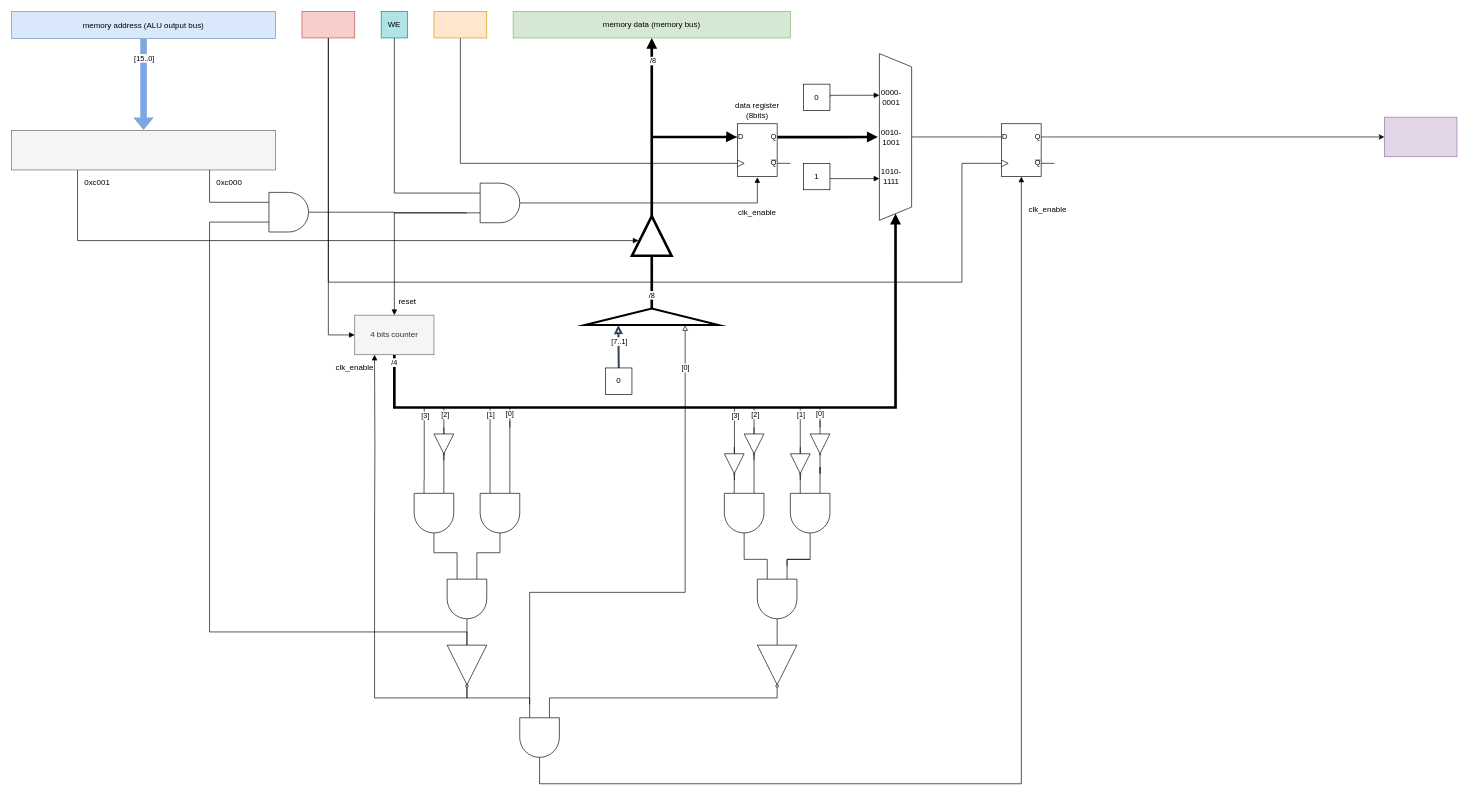
This 1469x801 diagram has some shape labels left out. The centre of each missing label's shape, as x and y in pixels:
"address decoder" goes at pixel 143 150.
"memory clk (cpu clk)" goes at pixel 460 24.
"UART clk" goes at pixel 328 24.
"UART TX" goes at pixel 1420 136.
